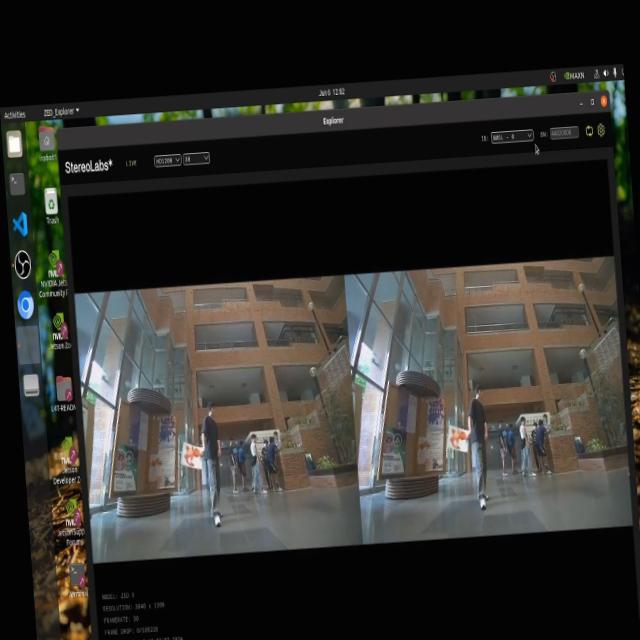red: (182, 444, 208, 474), (446, 424, 470, 449)
